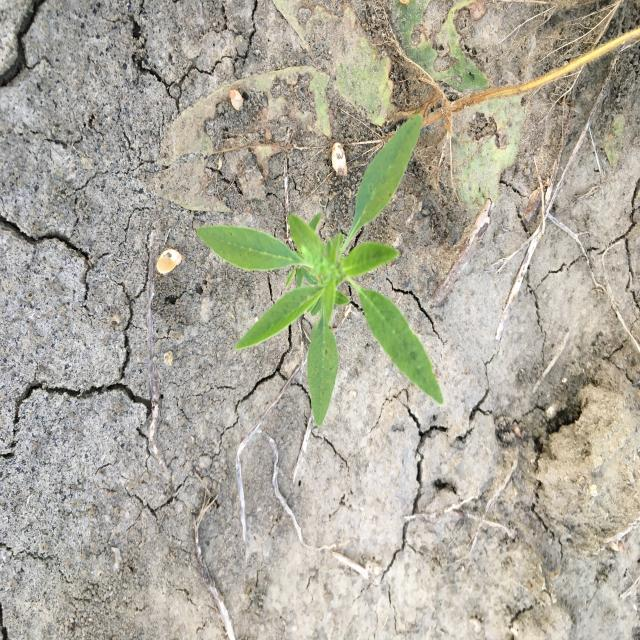Waterhemp: (193, 113, 445, 429)
